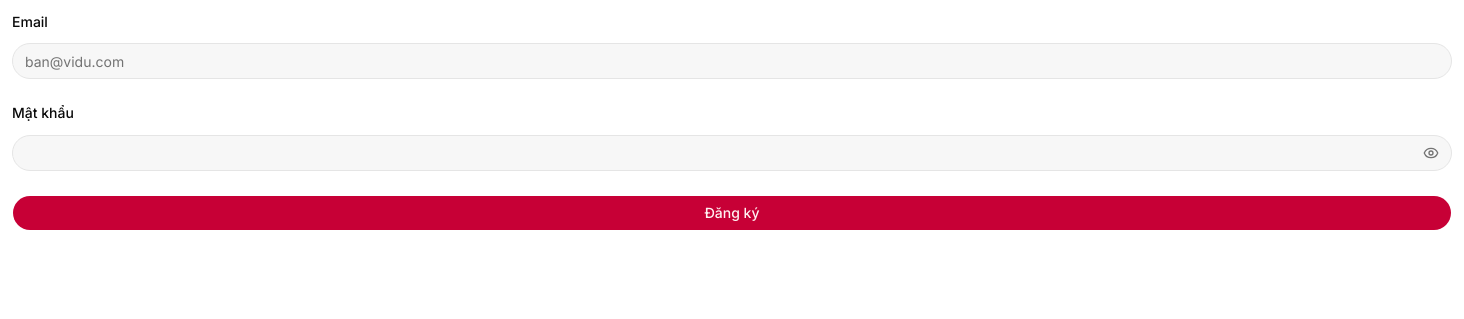
Test case: RegisterForm — lỗi cấp form (bảng E4) › 429: đúng câu, focus vào thông báo
Type "quanhanh@example.com" into the field labelled "Email" at (732, 61), box [12,43,1452,79]
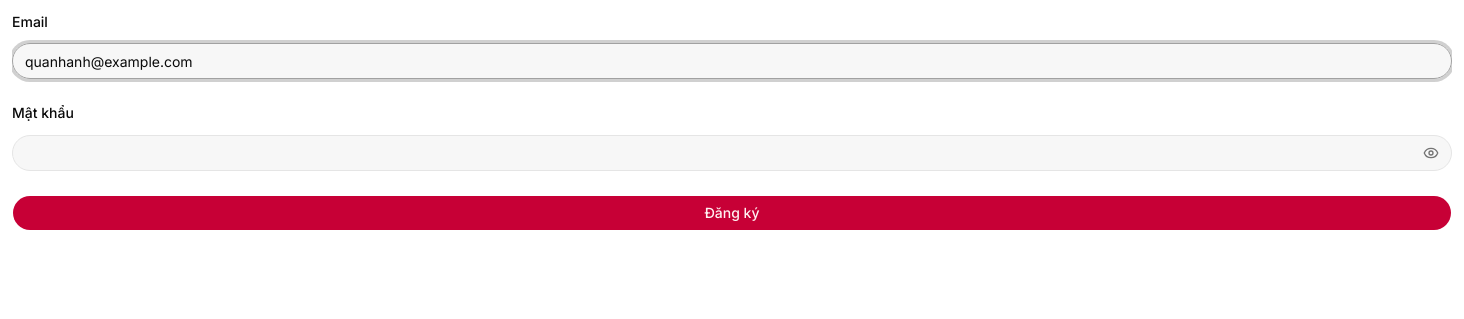
Type "MatKhau123" into the password field labelled "Mật khẩu" at (716, 152), box [13,134,1419,170]
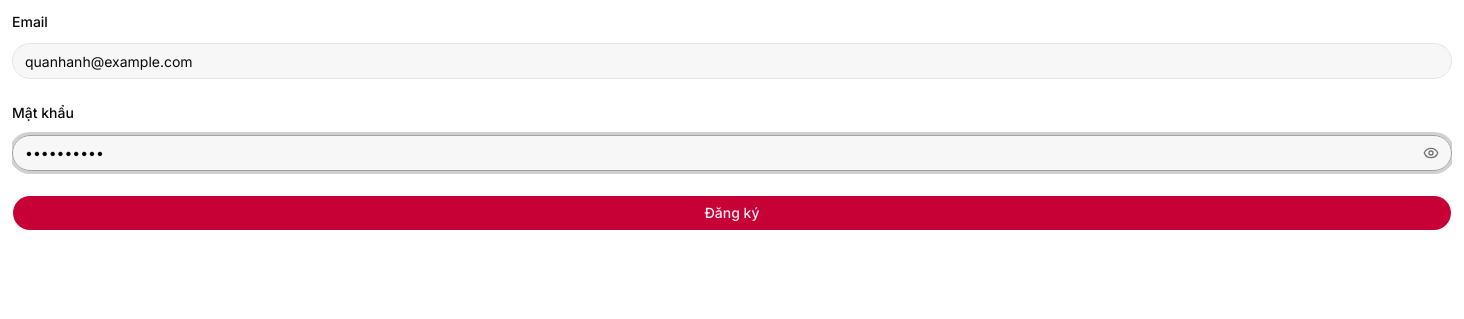
Click the button "Đăng ký" at (732, 212), box [12,194,1452,230]
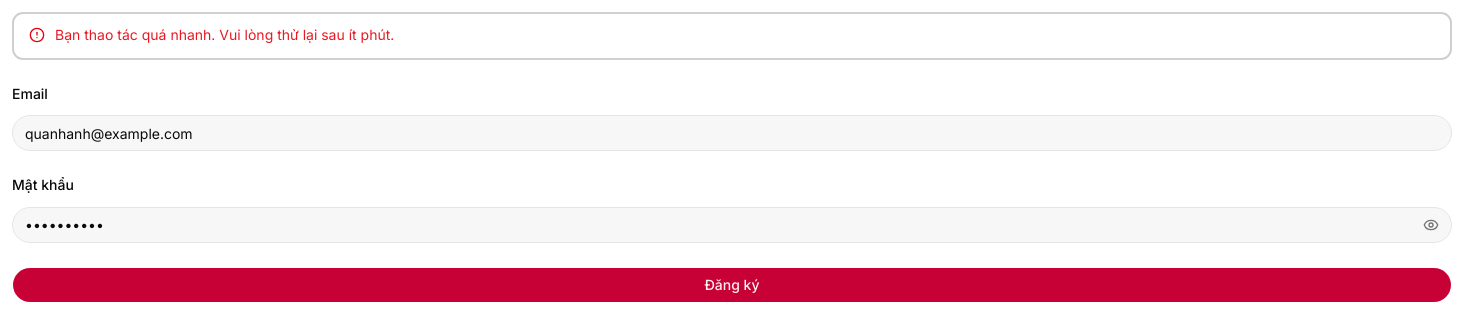
Check: the message reads "Bạn thao tác quá nhanh. Vui lòng thử lại sau ít phút.", box [55,26,394,43]
